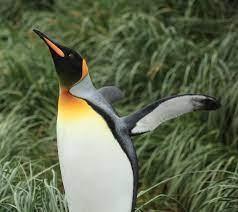king: (19, 19, 167, 212)
